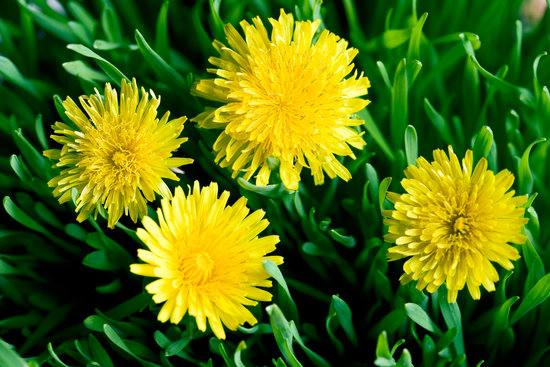dandelion: (218, 39, 355, 171), (393, 160, 516, 295), (161, 204, 264, 318), (57, 100, 160, 209)
